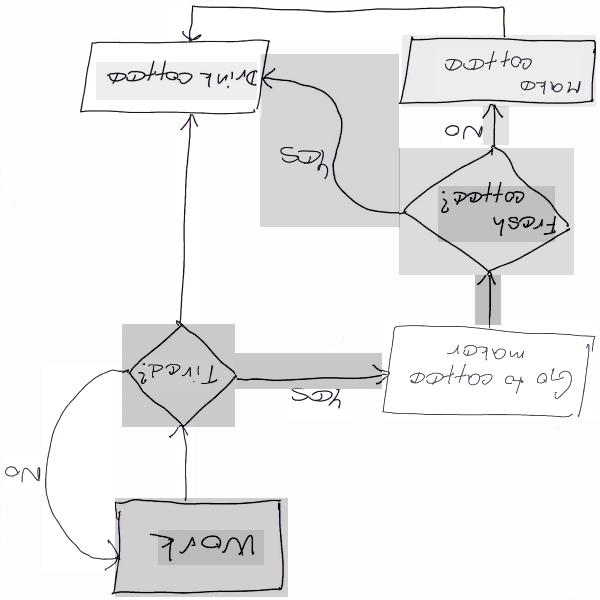arrow: (260, 54, 399, 227), (43, 364, 119, 571), (168, 2, 520, 41), (234, 352, 385, 389), (176, 110, 200, 325), (173, 422, 193, 497), (475, 274, 501, 325), (483, 106, 509, 145)
decision: (399, 148, 573, 275), (122, 324, 234, 426)
process: (381, 319, 598, 419), (115, 498, 288, 597), (82, 39, 262, 118), (402, 35, 596, 107)
text: (408, 341, 573, 404), (436, 49, 581, 97), (437, 185, 554, 241), (96, 62, 257, 100), (158, 530, 264, 565), (274, 136, 330, 184), (142, 358, 210, 391), (288, 386, 351, 419), (4, 457, 39, 487), (443, 127, 482, 145)
